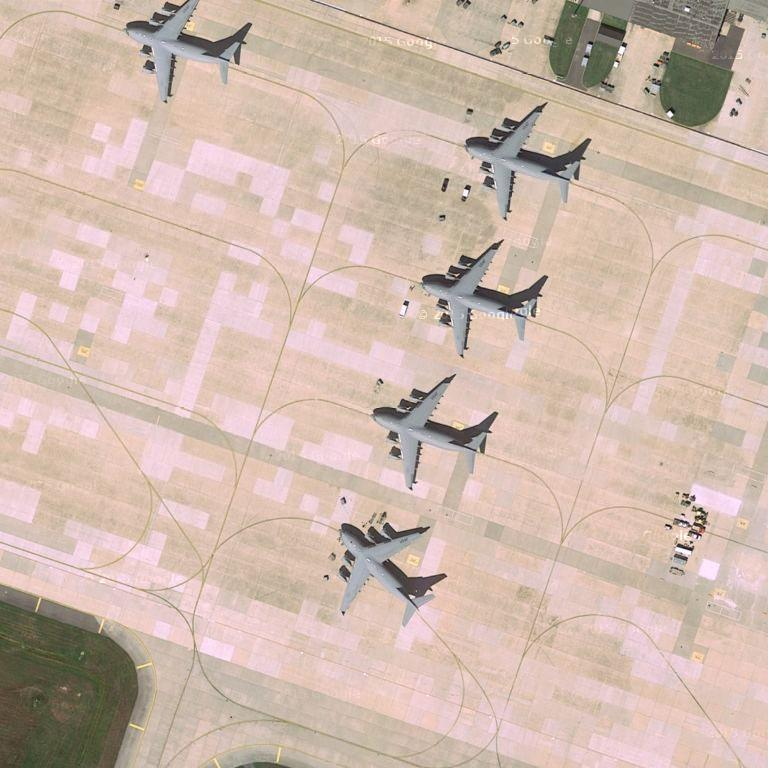C-17: (414, 238, 548, 356), (365, 371, 499, 487), (460, 100, 589, 218), (118, 2, 256, 102), (327, 515, 445, 625)
